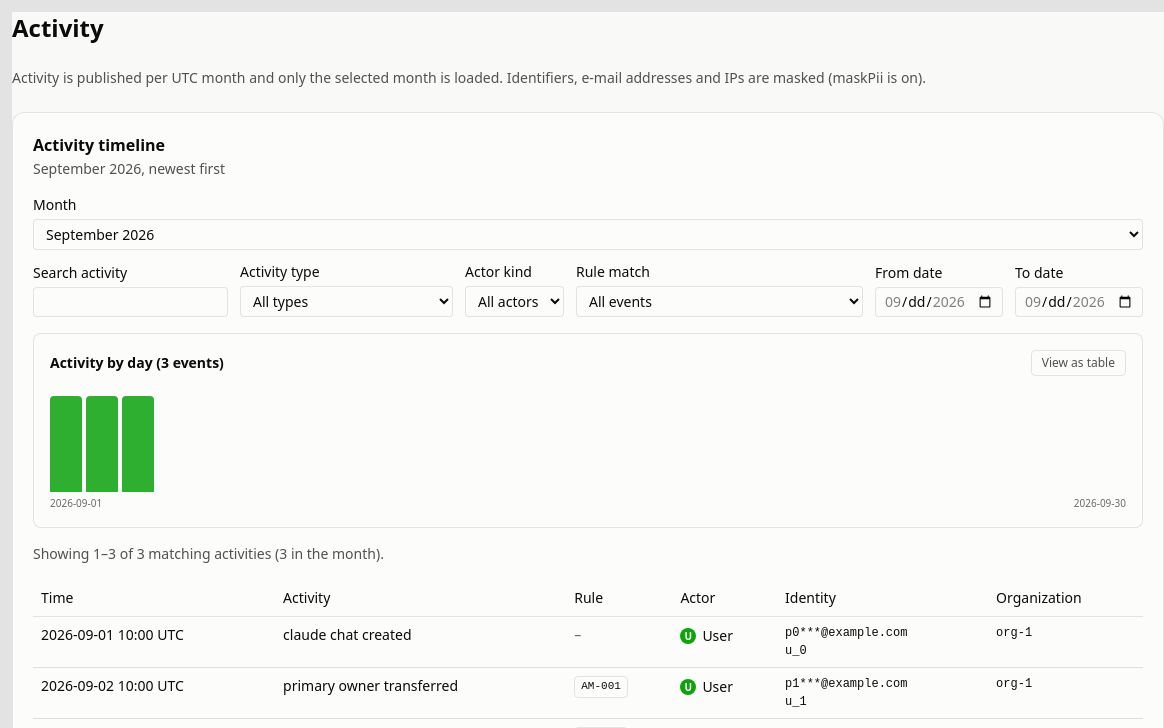
Test: Activity page › filters activity by rule match and displays rule badges
Expected: the text "AM-001" is shown, [574,676,628,698]
Select "AM-001: Privileged Role Changes" in the dropdown labelled "Rule match" at (720, 302), box [576,286,863,317]
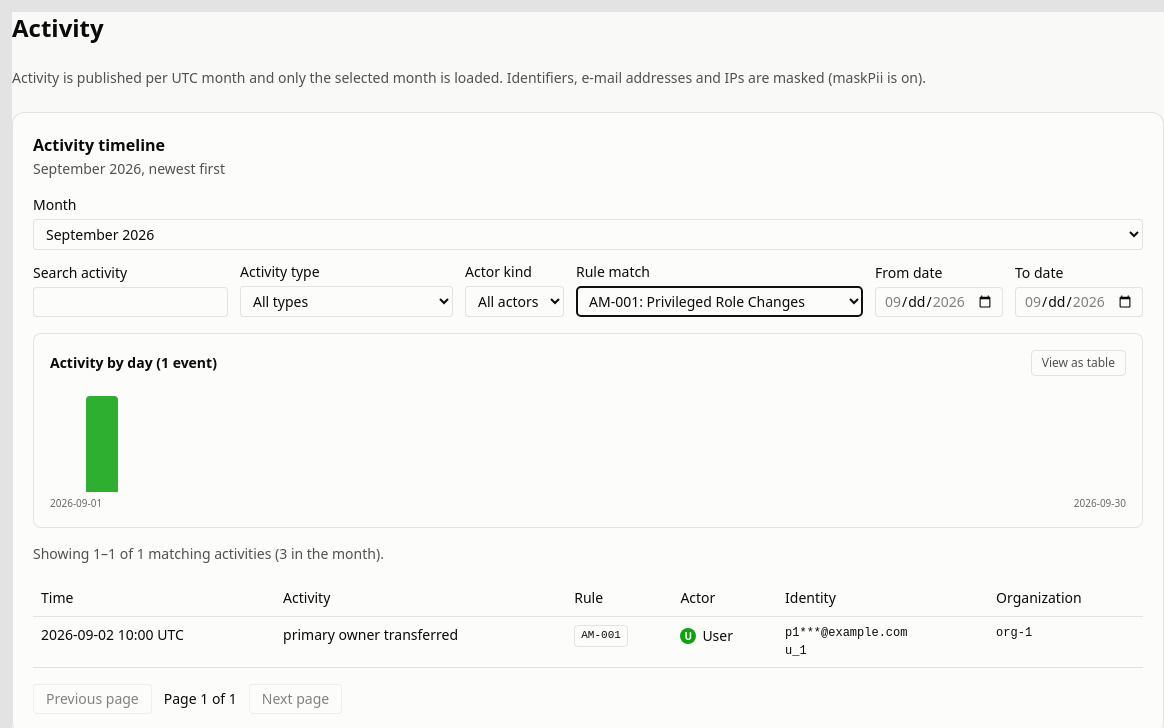
Expected: the text "AM-001" is shown, [574,625,628,647]
Expected: the text "Showing 1–1 of 1 matching activities (3 in the month)." is shown, [33,544,384,563]
Select "Any watch match" in the dropdown labelled "Rule match" at (720, 302), box [576,286,863,317]
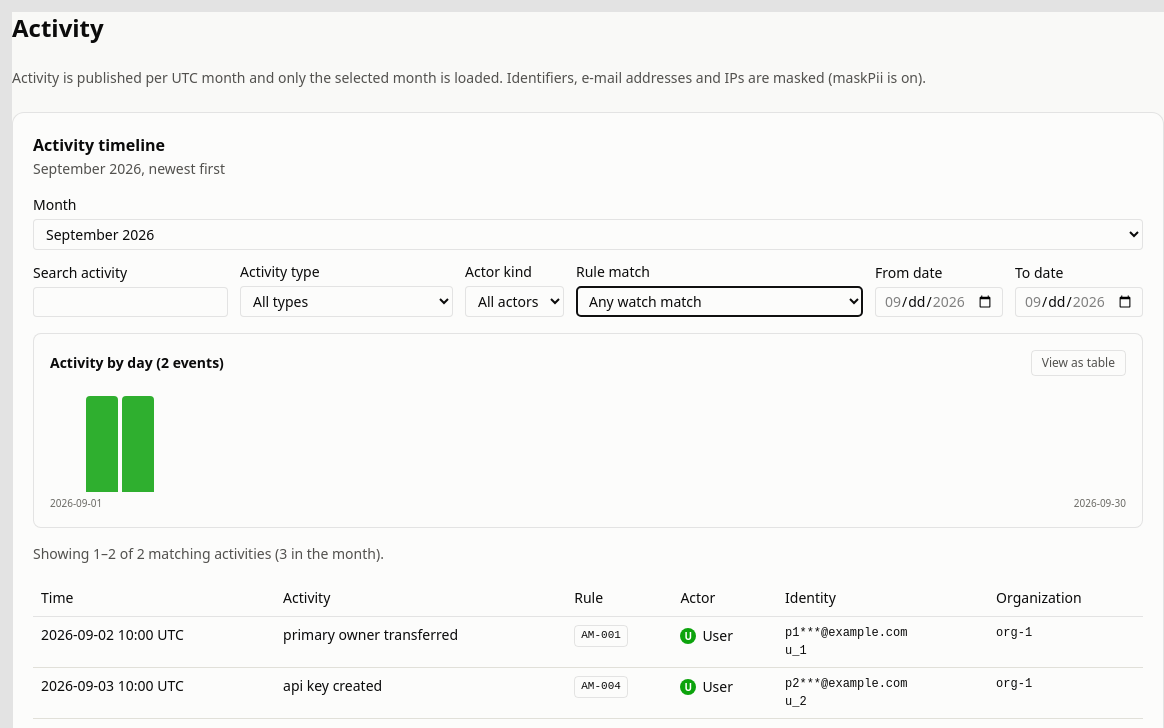
Expected: the text "Showing 1–2 of 2 matching activities (3 in the month)." is shown, [33,544,384,563]
